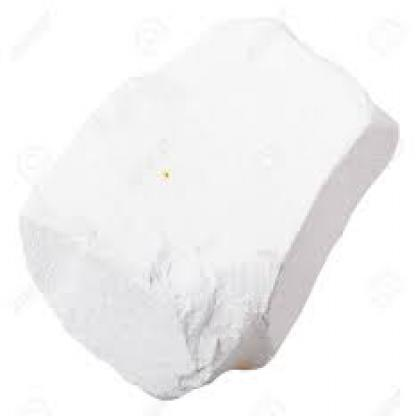Sedimentary_Chalk: (7, 10, 411, 406)
